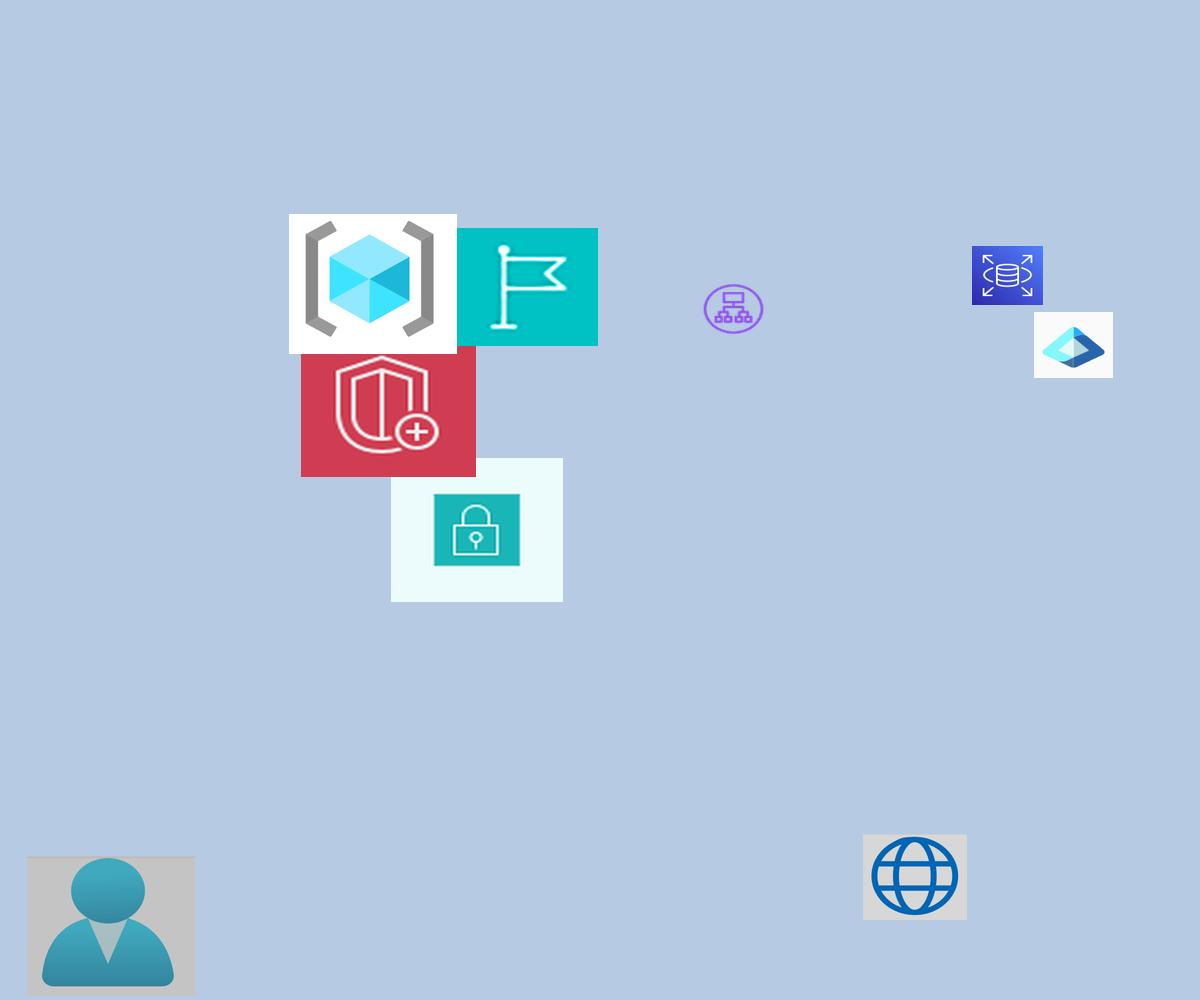AWS-Private-subnet: (391, 458, 563, 602)
AWS-RDS: (972, 246, 1043, 305)
AWS-Region: (456, 228, 598, 346)
AWS-Res_Elastic-Load-Balancing_Application-Load-Balancer: (701, 282, 766, 336)
AWS-Shield: (301, 332, 476, 477)
Azure_http: (863, 834, 967, 920)
Azure_microsoft_entra: (1034, 312, 1113, 378)
Azure_resource_group: (289, 214, 457, 354)
Azure_users: (27, 856, 195, 996)
